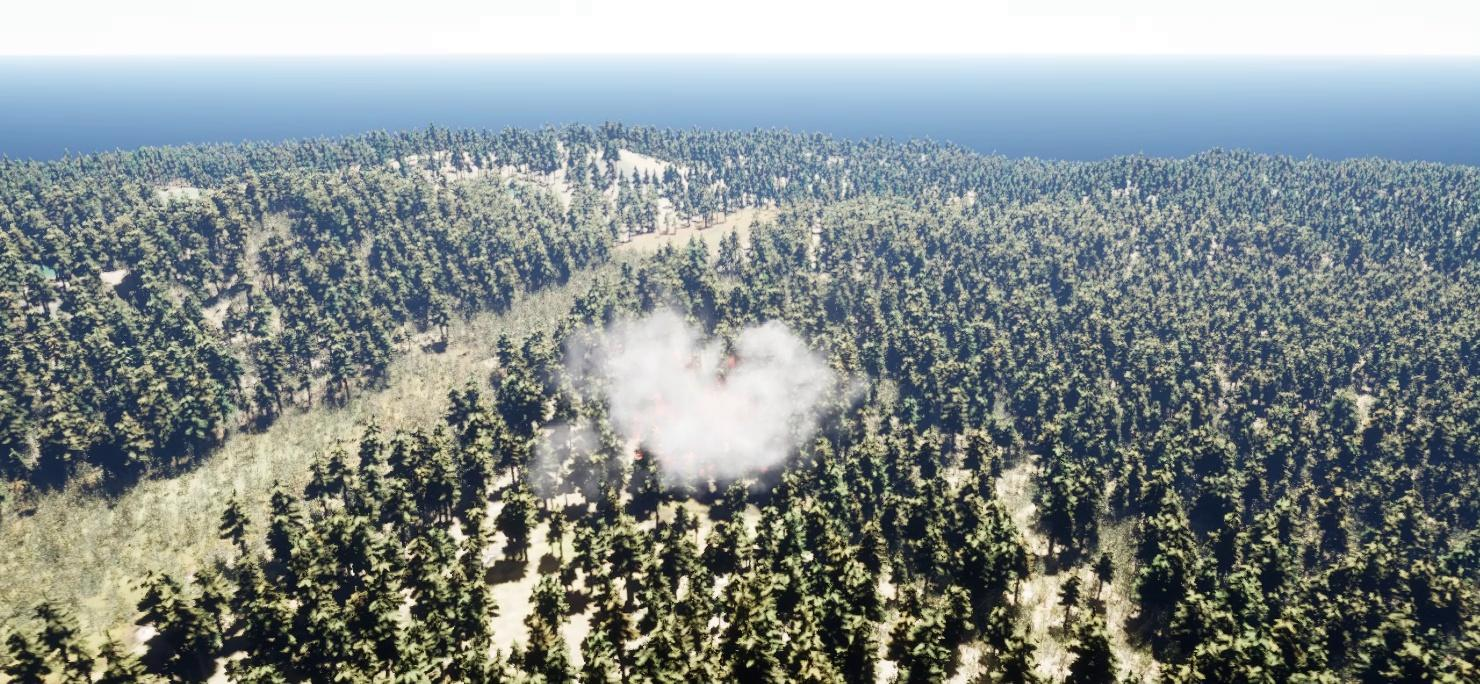smoke: (531, 314, 847, 493)
